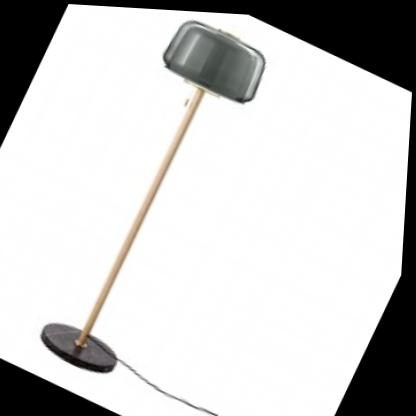Lamp: (19, 2, 284, 396)
